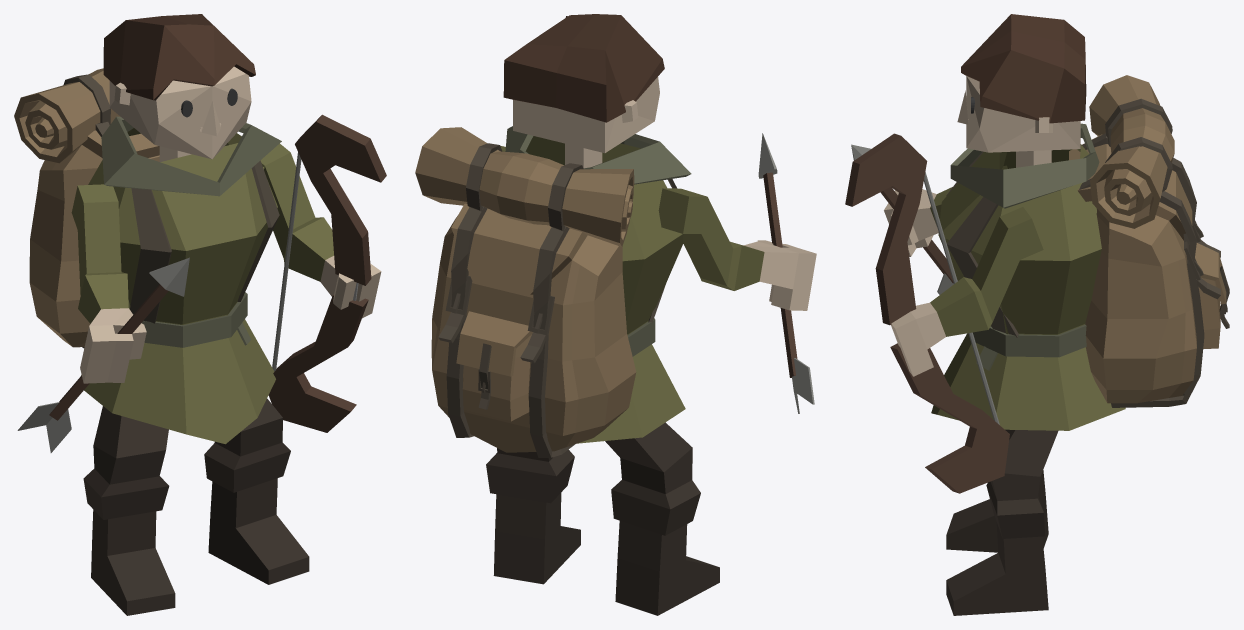
The model's file is Human3.0.fbx.
3 renders of one model, left to right at view 1: azimuth 30°, elevation 25°; view 2: azimuth 150°, elevation 25°; view 3: azimuth 270°, elevation 25°, orthographic. The views are drawn at different scales.
Visible parts, largest first — view 1: Human; view 2: Human; view 3: Human.
Boxes of the visible parts, <box> form: Human: <box>14,14,386,615</box>; Human: <box>415,14,816,615</box>; Human: <box>845,14,1229,615</box>.
Size of the model in its own units: 141 by 228 by 146.
